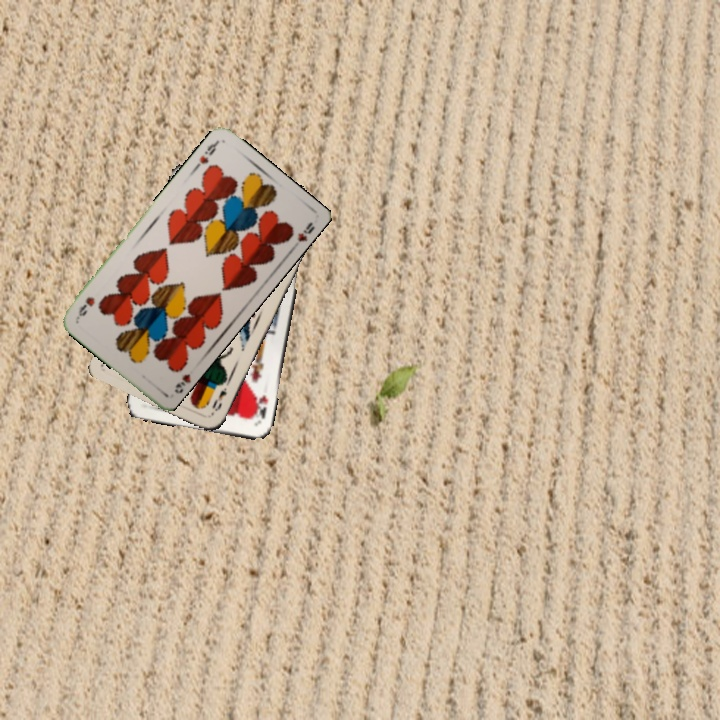EO: (208, 383, 229, 414)
H9: (195, 138, 221, 167), (170, 370, 193, 396)
HK: (249, 391, 271, 423)
